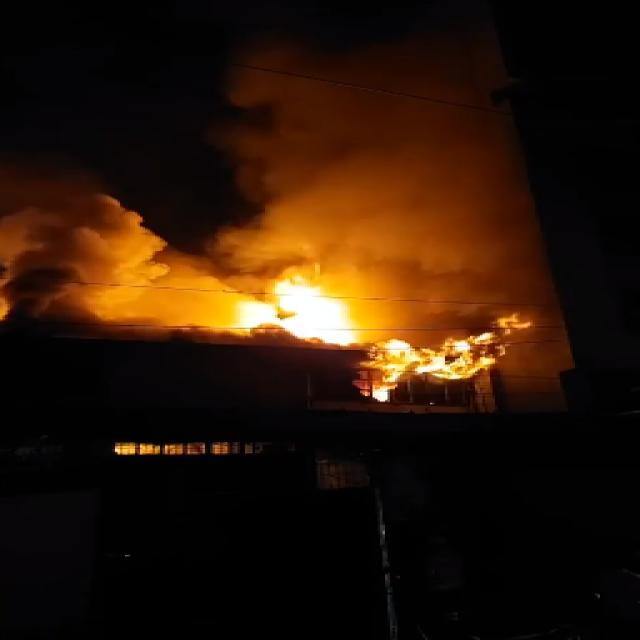Fire: (358, 320, 538, 396), (220, 278, 371, 349)
Smoke: (218, 28, 570, 408), (0, 150, 256, 331)
